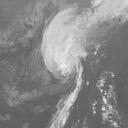cyclone: (41, 29, 86, 82)
